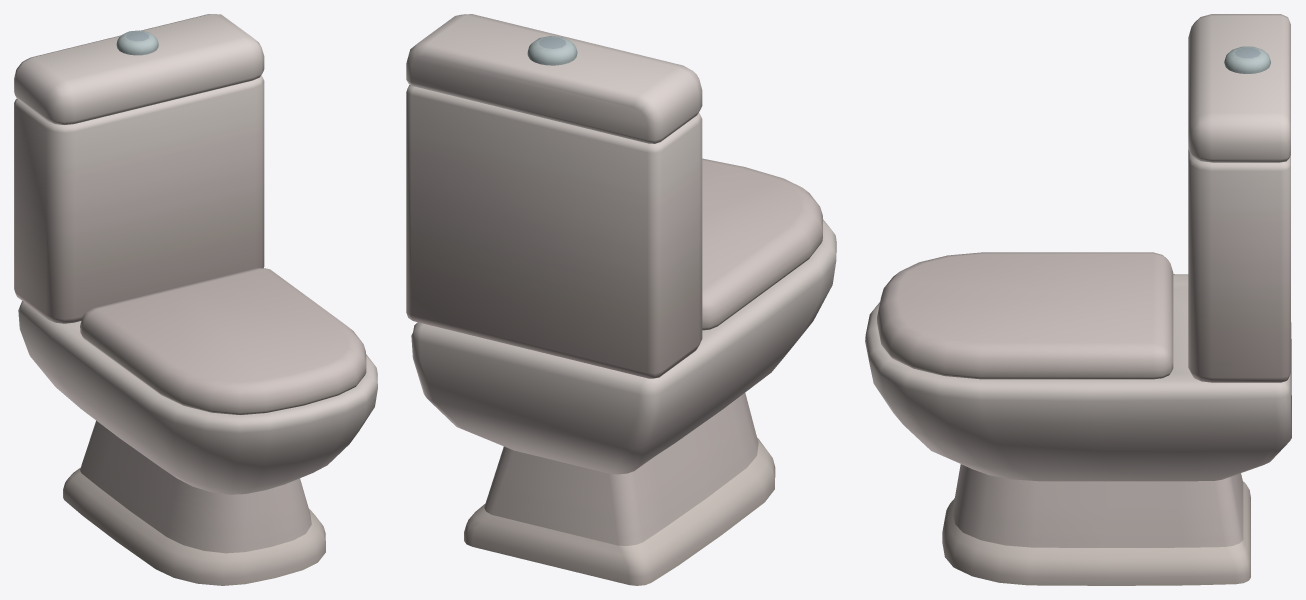
The model's file is toilet_03.glb.
3 views of the same model, side by side, from view 1: azimuth 30°, elevation 25°; view 2: azimuth 150°, elevation 25°; view 3: azimuth 270°, elevation 25° (orthographic). The views are drawn at different scales.
Visible parts, largest first — view 1: Toilet_03, Toilet_03_Cover; view 2: Toilet_03, Toilet_03_Cover; view 3: Toilet_03, Toilet_03_Cover.
Boxes of the visible parts, x1,y1,x2,y2 form: Toilet_03: (14, 14, 377, 585); Toilet_03_Cover: (80, 268, 366, 414); Toilet_03: (406, 14, 836, 585); Toilet_03_Cover: (702, 158, 822, 330); Toilet_03: (865, 14, 1291, 585); Toilet_03_Cover: (877, 252, 1173, 379).
Size of the model in its own units: 0.4174 by 0.8017 by 0.6345.
1 material, 1 textured.
